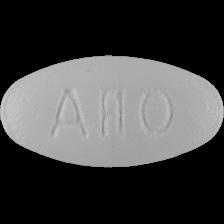60429-323: (0, 0, 224, 224)
